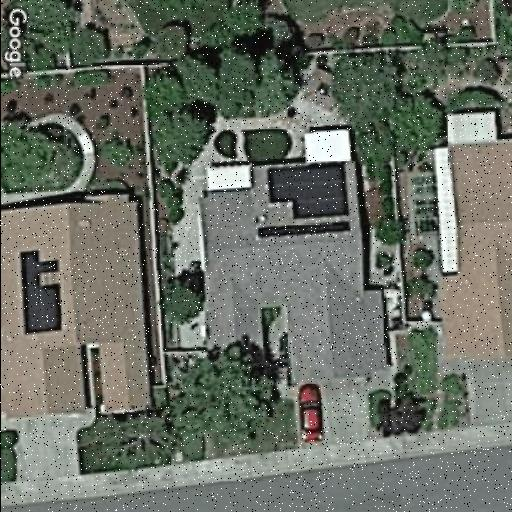solar-panel: (256, 160, 352, 242), (17, 244, 65, 336)
